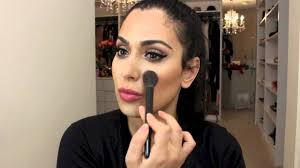middle_eastern_Female: (109, 1, 191, 117)
